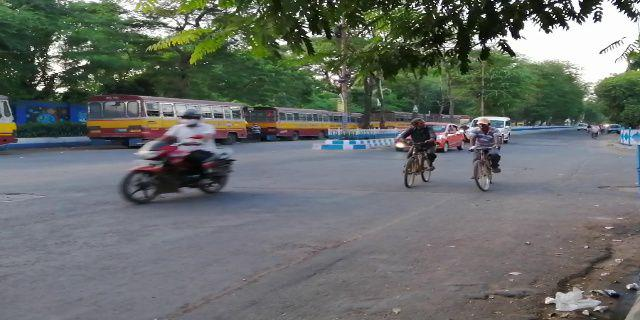Bus: (87, 91, 248, 151), (248, 99, 331, 149)
Cycle: (392, 110, 439, 194), (462, 117, 508, 200)
Motorbike: (117, 107, 233, 209)
